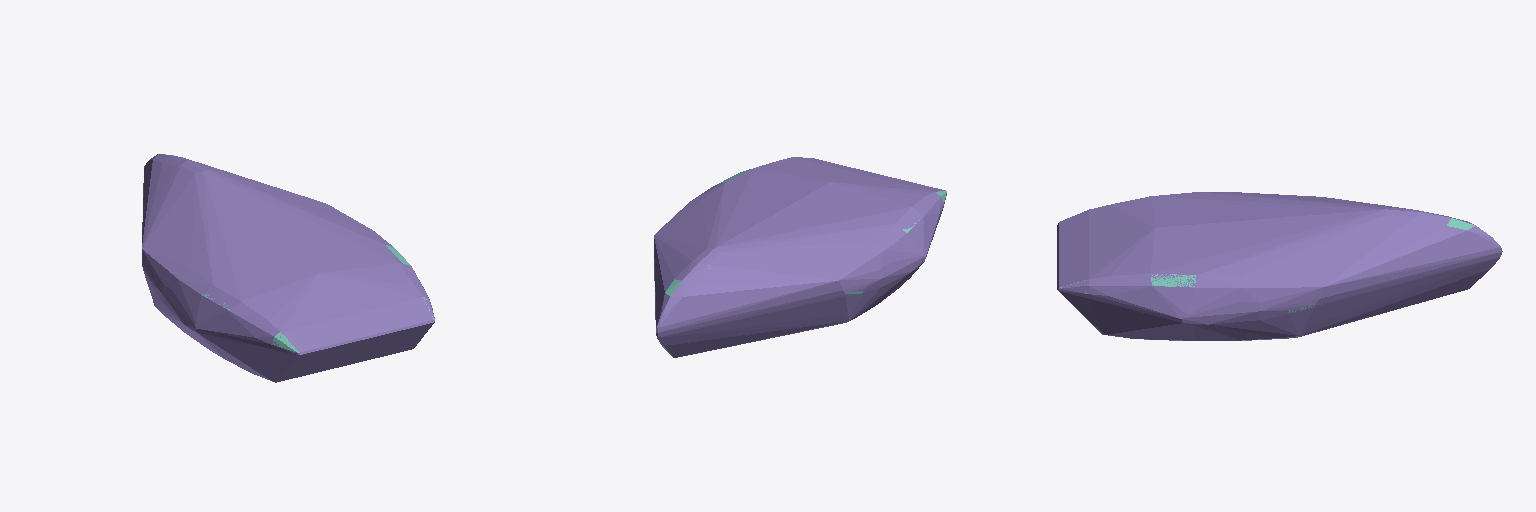
3 views of the same model, side by side, from view 1: azimuth 30°, elevation 25°; view 2: azimuth 150°, elevation 25°; view 3: azimuth 270°, elevation 25° (orthographic).
Visible parts, largest first — view 1: ship_belbu_physics; view 2: ship_belbu_physics; view 3: ship_belbu_physics, ship_belbu.
Part boxes in pixels (left/top/right/bottom): ship_belbu_physics: left=142, top=154, right=434, bottom=382; ship_belbu_physics: left=654, top=157, right=946, bottom=357; ship_belbu_physics: left=1057, top=192, right=1502, bottom=340; ship_belbu: left=1060, top=216, right=1493, bottom=340.
Bounding box in the file's own units: 296 × 121 × 524.